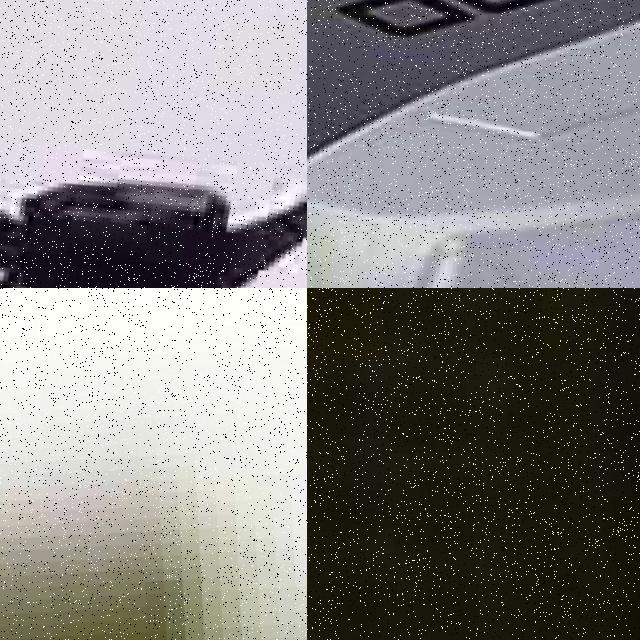0: (0, 0, 307, 288)
drone: (307, 0, 640, 288)
